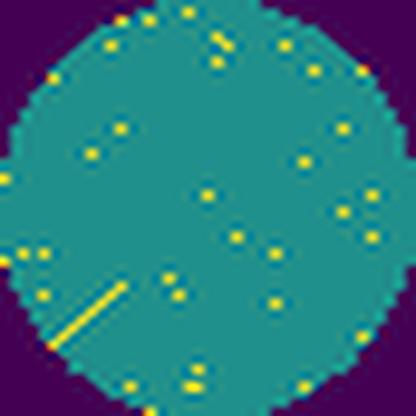Scratch: (50, 275, 136, 351)
